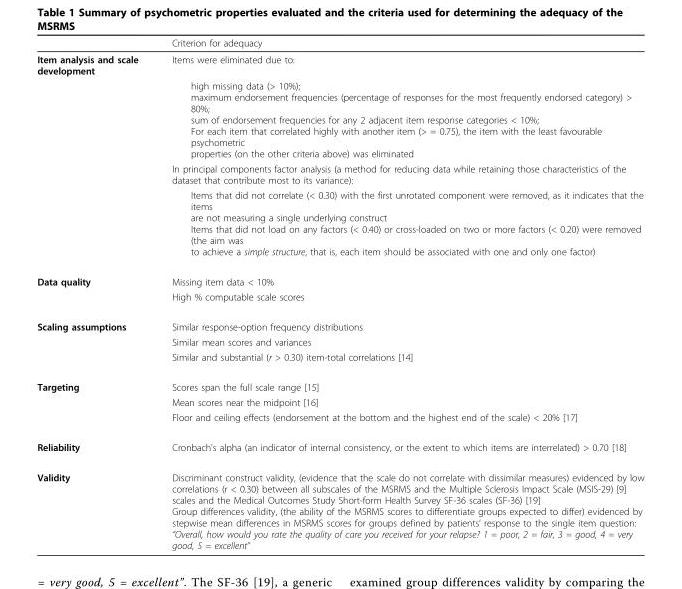table: (36, 36, 643, 550)
table column: (154, 36, 643, 550), (36, 36, 154, 550)
table column header: (36, 36, 643, 50)
table row: (36, 461, 643, 550), (36, 77, 643, 160), (36, 187, 643, 266), (36, 431, 643, 461), (36, 50, 643, 77), (36, 160, 643, 187), (36, 288, 643, 311), (36, 311, 643, 334), (36, 371, 643, 394), (36, 266, 643, 288), (36, 349, 643, 371), (36, 409, 643, 431), (36, 334, 643, 349), (36, 394, 643, 409), (36, 36, 643, 50)
table spanning cell: (36, 50, 154, 266), (36, 311, 154, 371), (36, 371, 154, 431), (36, 266, 154, 311)
